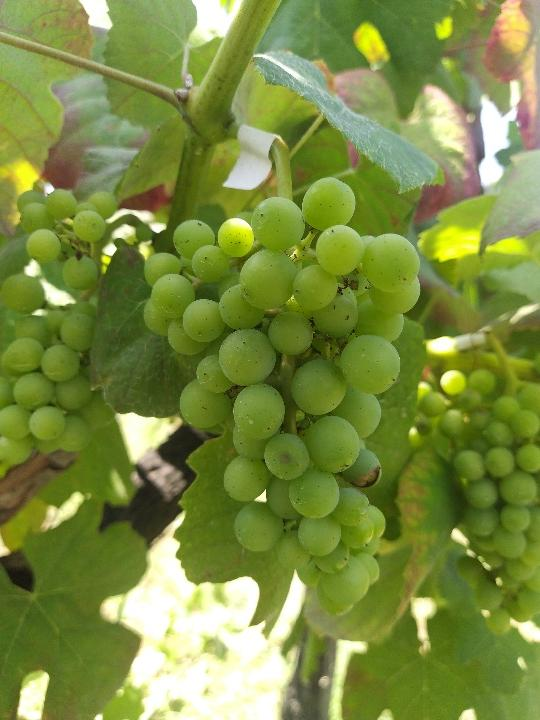grape: (140, 173, 423, 620)
